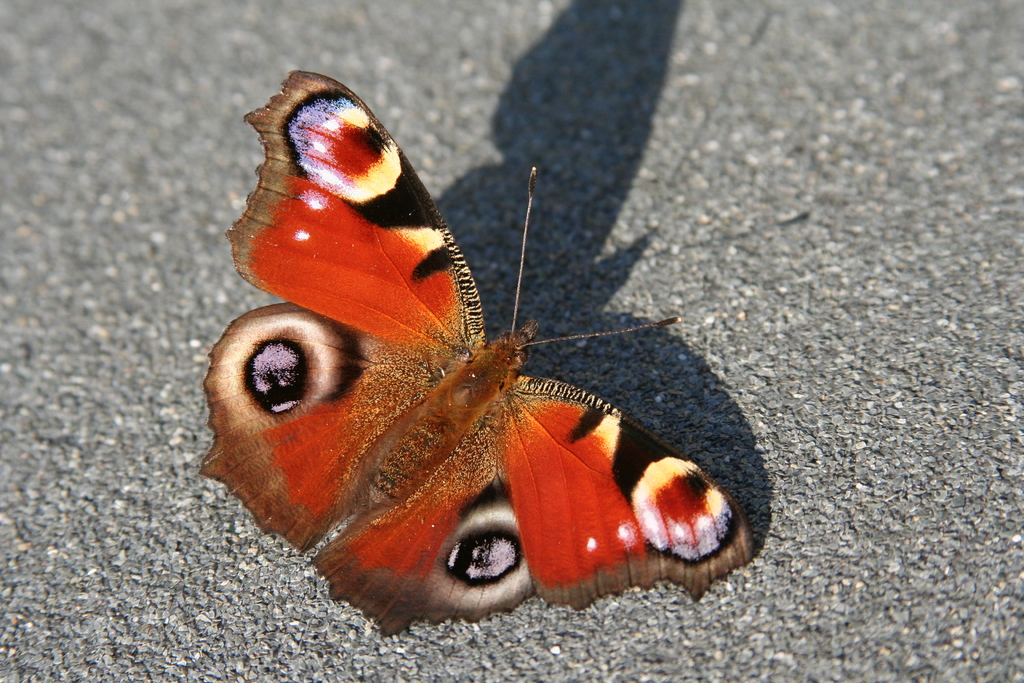Butterfly: (200, 51, 767, 639)
